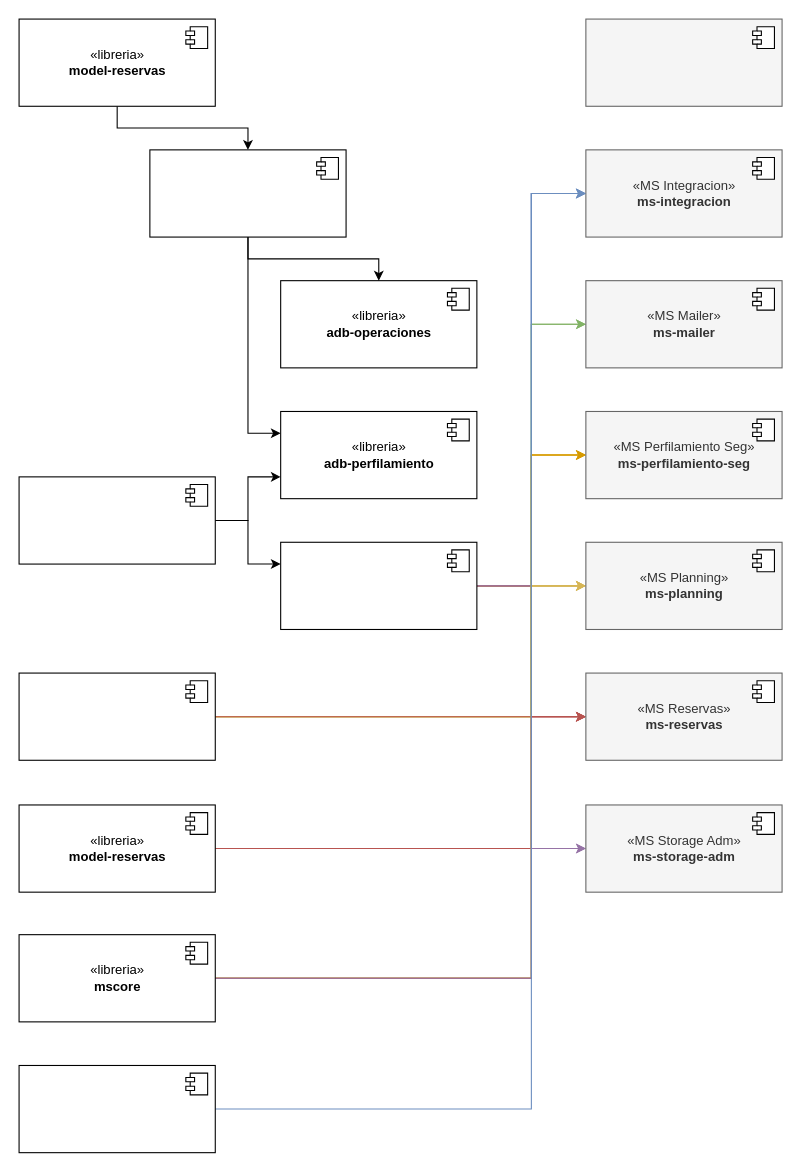
Some shapes in this 801 by 1172 pixel diagram are drawn without their labels. Here are the shapes that lost their labels. From the top down, the centre of each, then its label:
At (x=683, y=62): "«MS Config Server» cnf-server-utl".
At (x=247, y=193): "«libreria» adbcore".
At (x=116, y=520): "«libreria» model-perfilamiento".
At (x=378, y=585): "«libreria» lib-auth".
At (x=116, y=716): "«libreria» model-mailer".
At (x=116, y=1108): "«libreria» sap-client".
